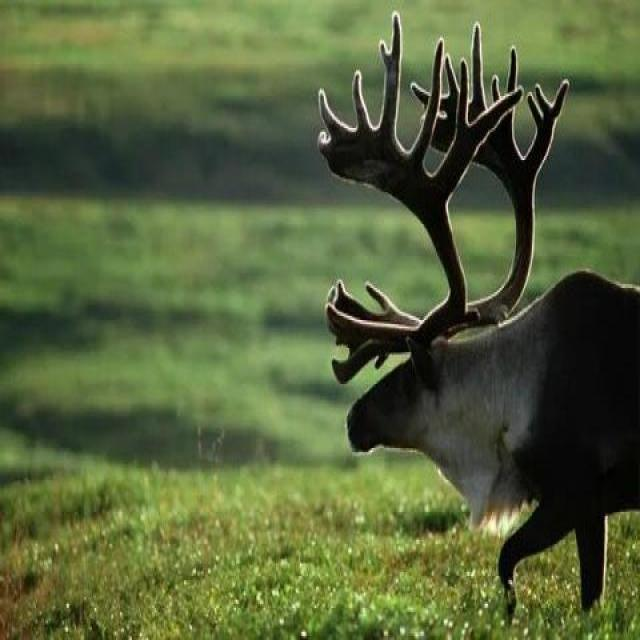deer: (287, 21, 640, 582)
